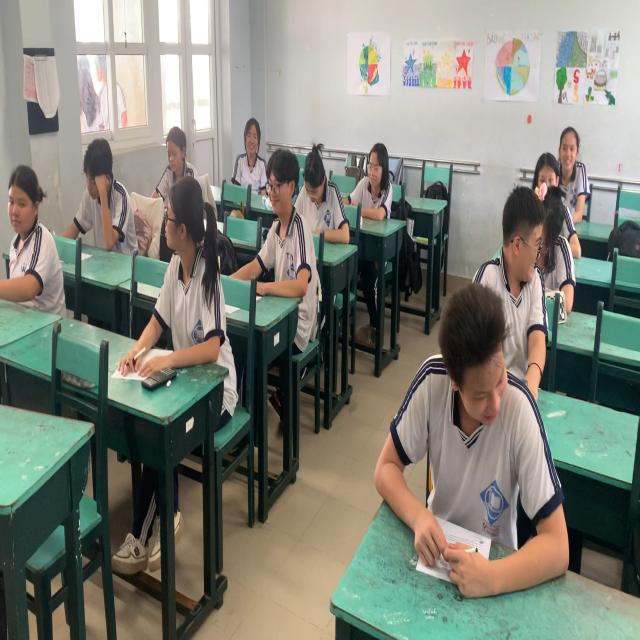cheating: (158, 181, 224, 367), (497, 188, 552, 391)
not_cheating: (392, 308, 552, 571), (0, 157, 56, 305), (262, 146, 311, 288), (76, 136, 132, 260), (301, 135, 352, 253), (354, 128, 394, 222), (554, 126, 593, 216), (149, 125, 200, 181), (231, 119, 266, 188)
